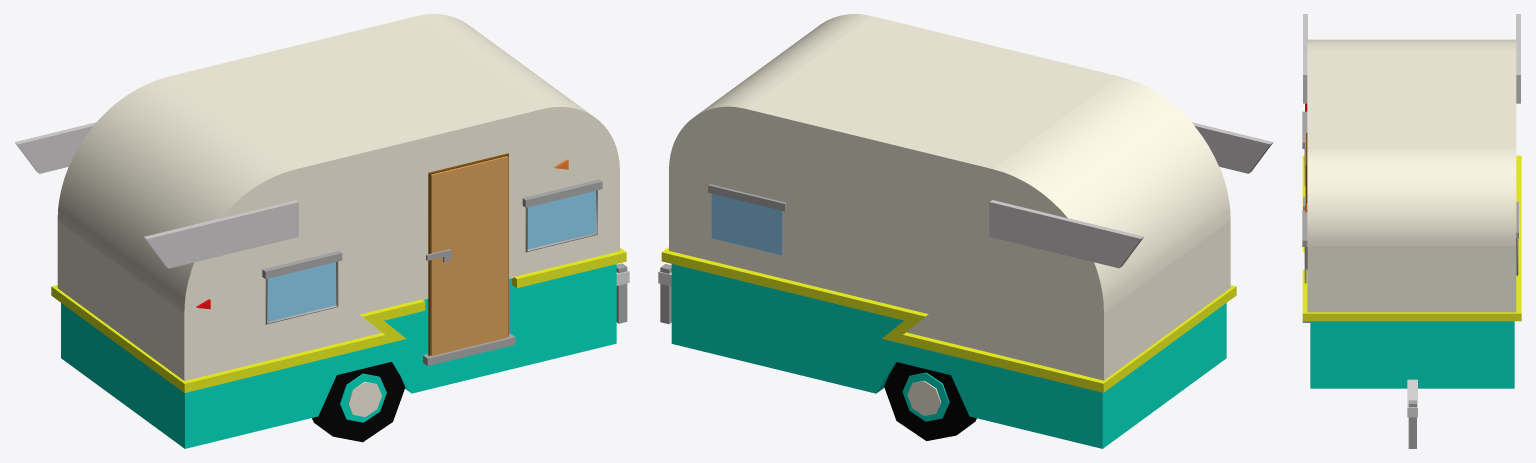
The model's file is camper_van_v03.fbx.
The picture shows the model from 3 angles, left to right: view 1: azimuth 30°, elevation 25°; view 2: azimuth 150°, elevation 25°; view 3: azimuth 270°, elevation 25°; orthographic projection. The views are drawn at different scales.
Parts seen in each view (by area): view 1: Extrude_NURBS_1, Extrude_NURBS_2_8, Extrude_NURBS_3_5, Boole_1, Extrude_NURBS_1_4, Extrude_NURBS_2_7, Extrude_NURBS_2_5, Extrude_NURBS_3_2, Extrude_NURBS_5, Door_frame, Extrude_NURBS_2_9, Extrude_NURBS_2_4 (+3 smaller); view 2: Extrude_NURBS_1, Extrude_NURBS_2_8, Boole_1, Extrude_NURBS_5, Extrude_NURBS, Extrude_NURBS_1_3, Extrude_NURBS_1_4, Extrude_NURBS_3_3, Extrude_NURBS_2_6, Extrude_NURBS_2; view 3: Extrude_NURBS_1, Extrude_NURBS_2_8, Boole_1, Extrude_NURBS_5, Extrude_NURBS_1_4, Extrude_NURBS_2_3, Extrude_NURBS_2_2.
Part boxes in pixels (box(x1,y1,x2,y2)): Extrude_NURBS_1: box(57, 14, 619, 380); Extrude_NURBS_2_8: box(61, 264, 616, 448); Extrude_NURBS_3_5: box(430, 156, 508, 355); Boole_1: box(51, 247, 626, 392); Extrude_NURBS_1_4: box(144, 200, 298, 268); Extrude_NURBS_2_7: box(312, 362, 405, 442); Extrude_NURBS_2_5: box(268, 262, 335, 321); Extrude_NURBS_3_2: box(528, 191, 595, 249); Extrude_NURBS_5: box(14, 122, 95, 173); Door_frame: box(428, 153, 508, 355); Extrude_NURBS_2_9: box(423, 334, 515, 365); Extrude_NURBS_2_4: box(522, 179, 602, 207); Extrude_NURBS_1: box(669, 14, 1230, 380); Extrude_NURBS_2_8: box(671, 264, 1226, 448); Boole_1: box(661, 247, 1236, 392); Extrude_NURBS_5: box(989, 200, 1143, 268); Extrude_NURBS: box(712, 193, 782, 255); Extrude_NURBS_1_3: box(884, 362, 976, 440); Extrude_NURBS_1_4: box(1192, 122, 1273, 173); Extrude_NURBS_3_3: box(907, 380, 941, 415); Extrude_NURBS_2_6: box(902, 372, 949, 421); Extrude_NURBS_2: box(708, 184, 786, 211); Extrude_NURBS_1: box(1307, 39, 1516, 312); Extrude_NURBS_2_8: box(1310, 321, 1514, 388); Boole_1: box(1302, 155, 1521, 321); Extrude_NURBS_5: box(1516, 14, 1520, 103); Extrude_NURBS_1_4: box(1303, 14, 1307, 103); Extrude_NURBS_2_3: box(1407, 379, 1417, 417); Extrude_NURBS_2_2: box(1408, 400, 1416, 448).
Size of the model in its own units: 1009 by 518 by 427.
